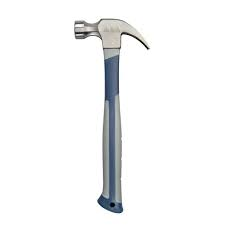hammer: (73, 17, 150, 214)
